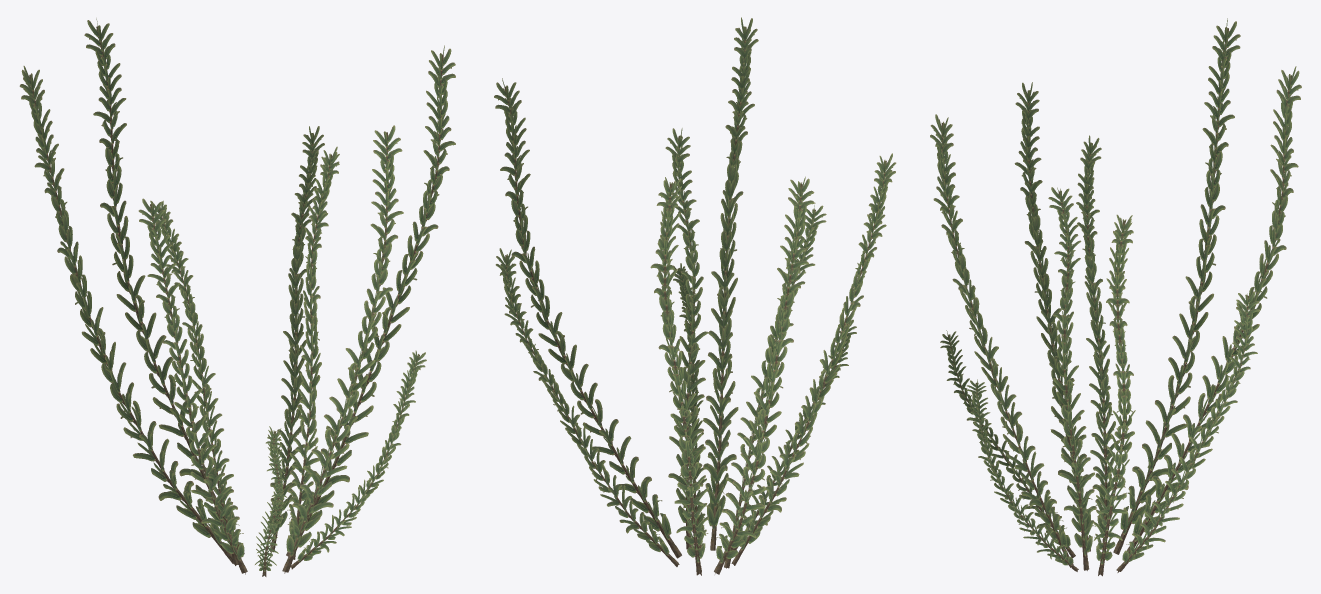
File: shrub2.glb
3 renders of one model, left to right at view 1: azimuth 30°, elevation 25°; view 2: azimuth 150°, elevation 25°; view 3: azimuth 270°, elevation 25°, orthographic. The views are drawn at different scales.
Visible parts, largest first — view 1: ocotillo branch 01_5_ocotillo branch 01_5Mat_0.013; view 2: ocotillo branch 01_5_ocotillo branch 01_5Mat_0.013; view 3: ocotillo branch 01_5_ocotillo branch 01_5Mat_0.013.
Boxes of the visible parts, bbox=[...] form: ocotillo branch 01_5_ocotillo branch 01_5Mat_0.013: bbox=[19, 18, 455, 576]; ocotillo branch 01_5_ocotillo branch 01_5Mat_0.013: bbox=[494, 17, 896, 575]; ocotillo branch 01_5_ocotillo branch 01_5Mat_0.013: bbox=[930, 18, 1301, 576].
Size of the model in its own units: 17.6 by 21.49 by 15.66.
Materials: 1 (1 with a texture image).
